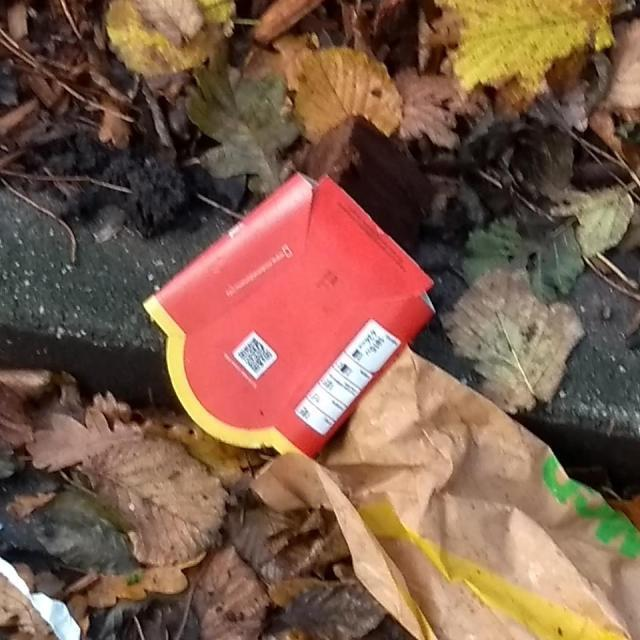Paper: (247, 340, 638, 640), (138, 169, 440, 462)
